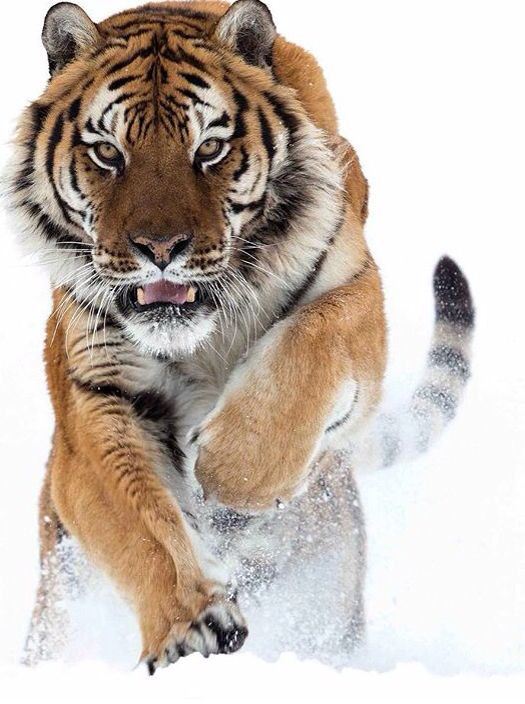Tigrew: (7, 15, 435, 658)
